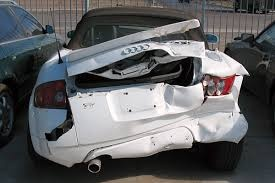Broken-glass: (200, 72, 232, 96)
Dent: (136, 84, 238, 141), (140, 18, 222, 69)
